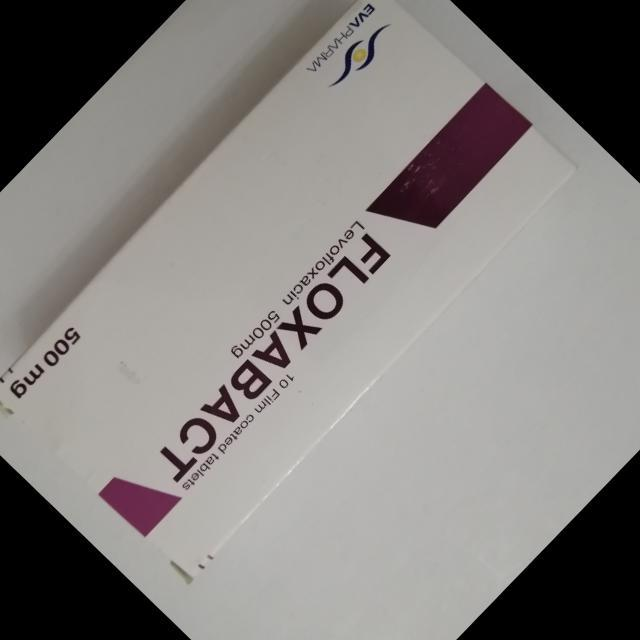Medicine Name: (141, 223, 399, 488)
